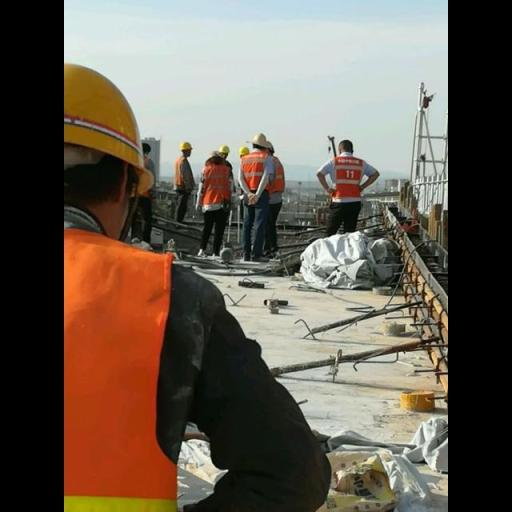Person: (60, 45, 345, 498), (315, 132, 379, 248), (242, 133, 280, 263), (201, 138, 235, 264), (166, 128, 201, 238)
helmet: (62, 50, 164, 196), (206, 138, 234, 164), (256, 136, 282, 163), (211, 134, 235, 160), (250, 126, 272, 152), (172, 139, 198, 156), (235, 140, 253, 164)
vest: (64, 200, 206, 510), (326, 141, 368, 204), (195, 158, 240, 216), (235, 148, 275, 205), (255, 150, 287, 207), (170, 154, 196, 196)
